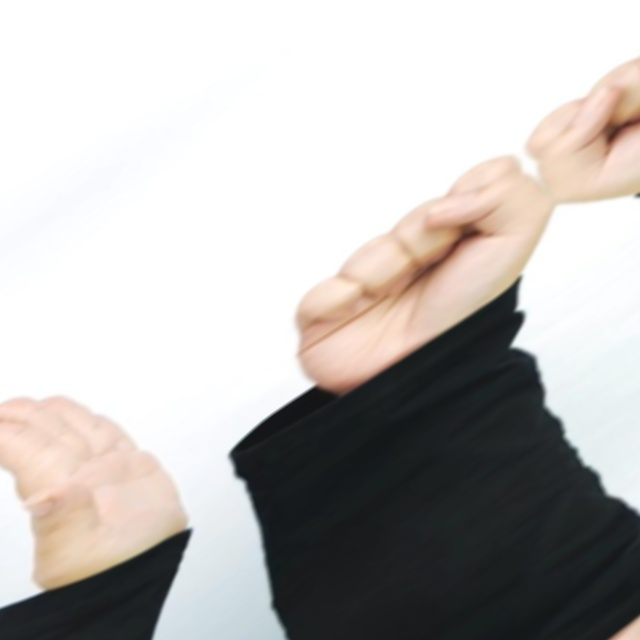Rock: (511, 0, 640, 237)
